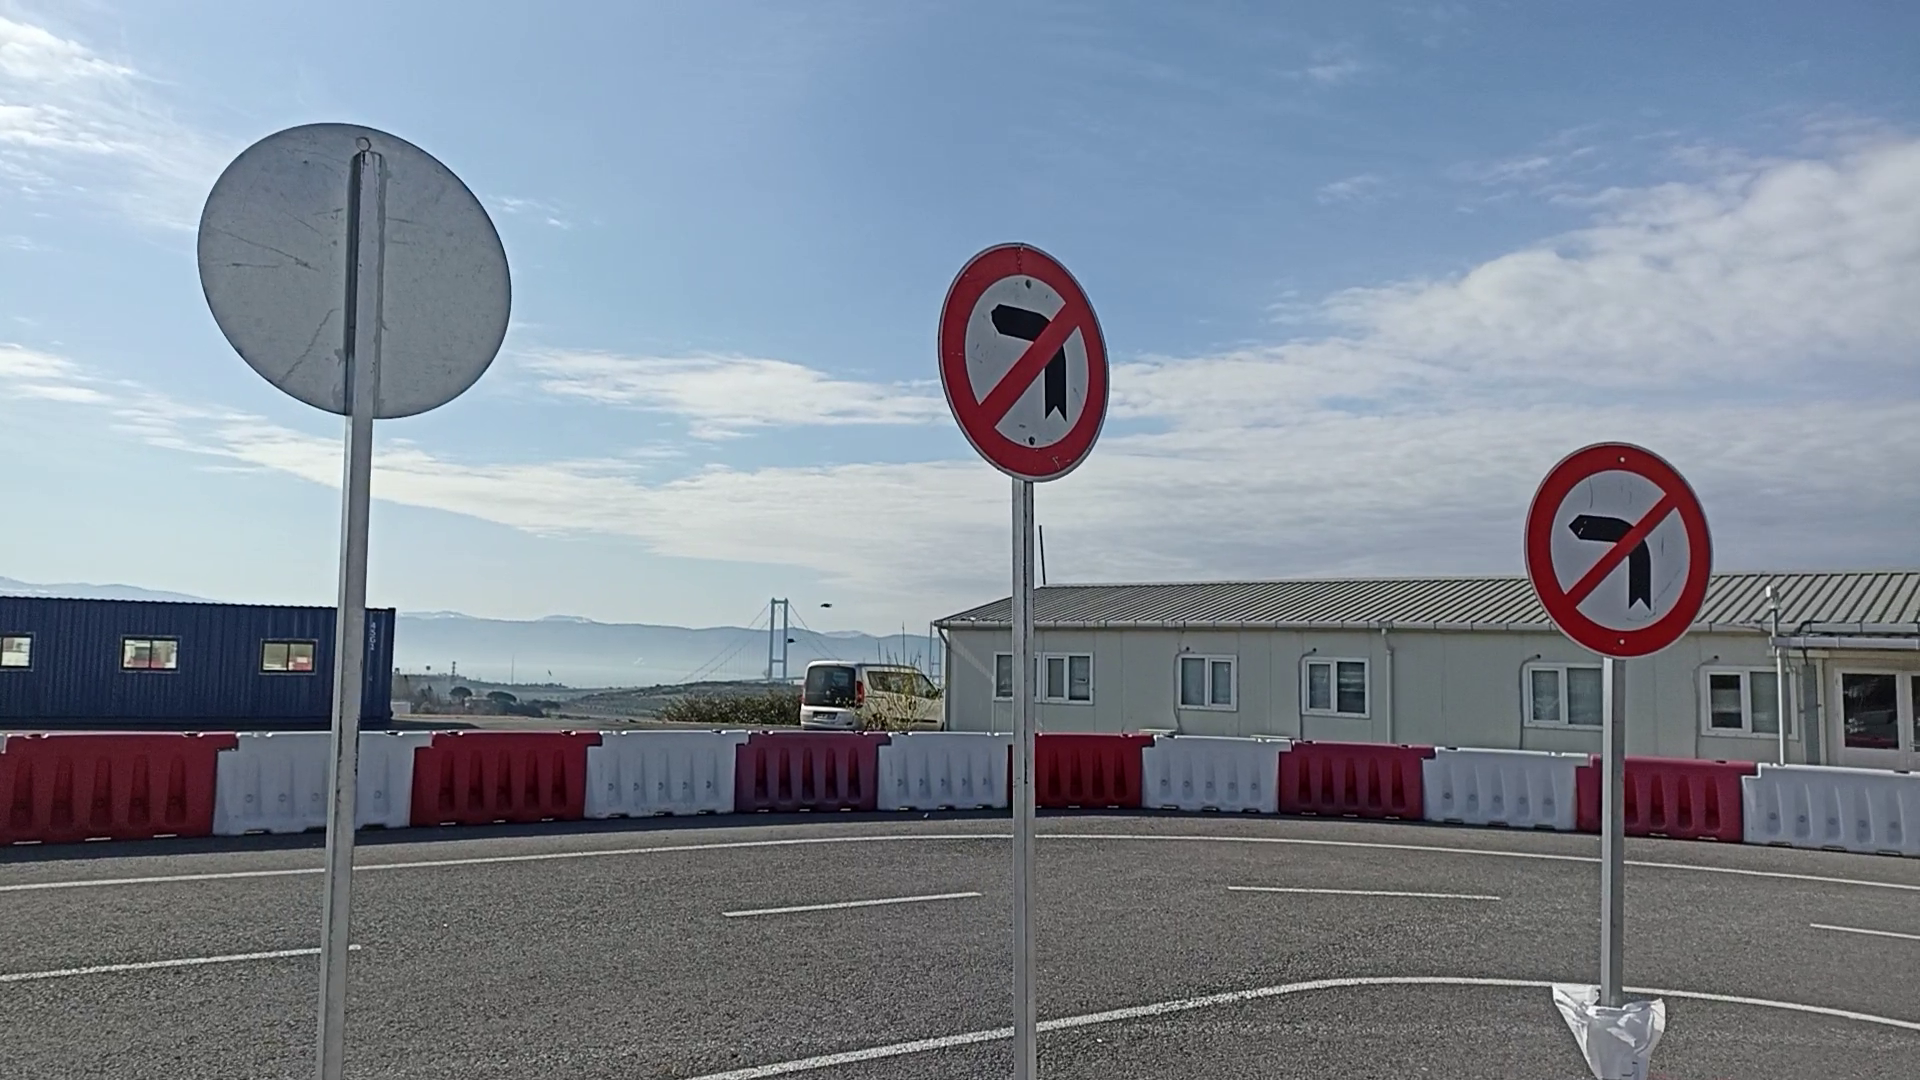noleft: (934, 239, 1114, 487), (1520, 439, 1714, 665)
